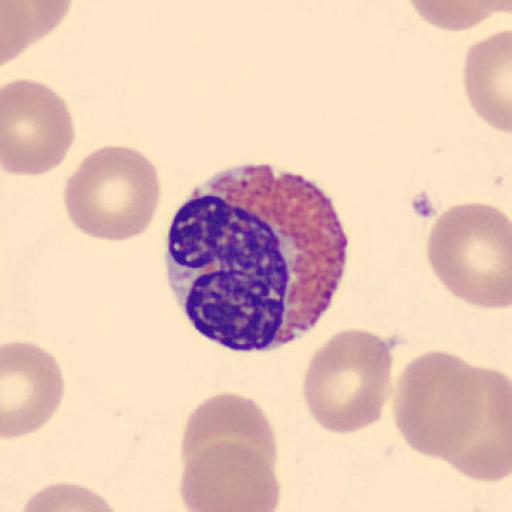RBC: (415, 354, 512, 484), (392, 348, 483, 462), (301, 327, 394, 436), (62, 142, 163, 242), (179, 390, 280, 486), (425, 201, 512, 311), (439, 362, 512, 483), (179, 438, 281, 512), (2, 77, 76, 178), (2, 339, 66, 441), (462, 28, 512, 136), (1, 1, 74, 61), (18, 481, 130, 512), (407, 0, 512, 32), (2, 0, 73, 42), (1, 0, 36, 68), (2, 0, 74, 25)
WBC: (163, 161, 349, 354)
